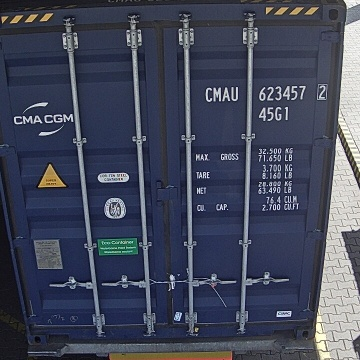serial_id: (205, 84, 326, 102)
